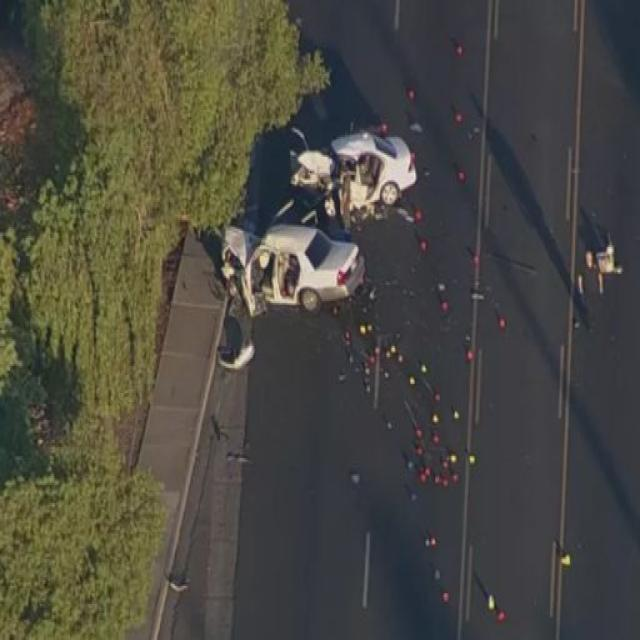traffic_incident: (279, 119, 425, 227), (216, 222, 368, 319)
